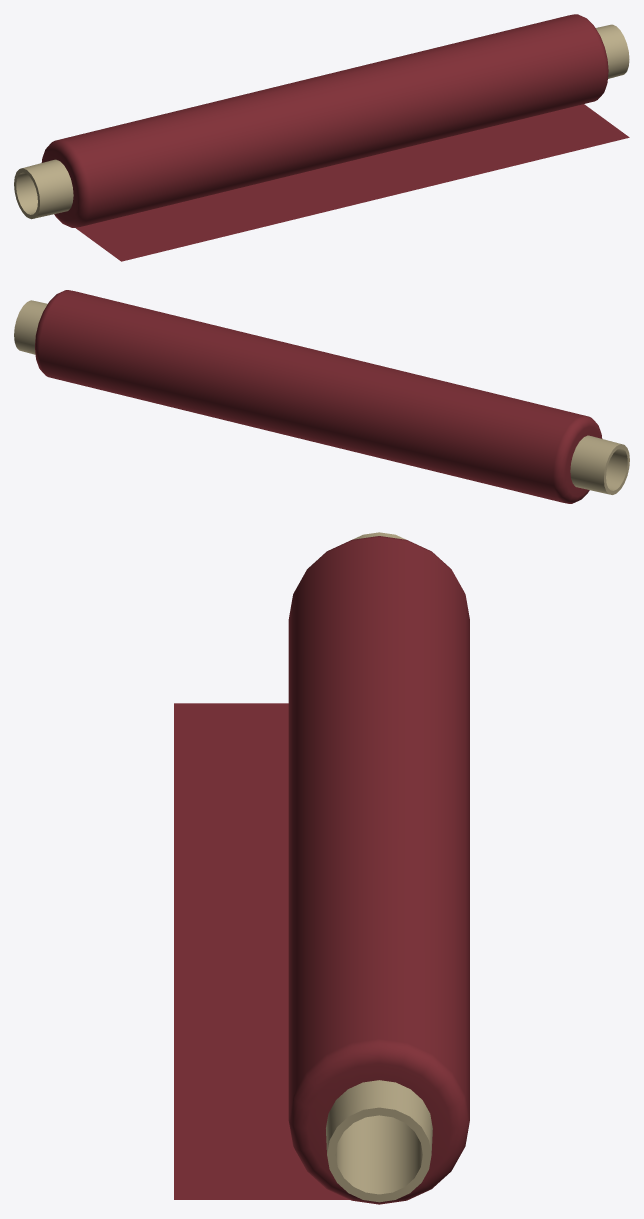
Rendered from TissuGeo.fbx.
3 renders of one model, top to bottom at view 1: azimuth 30°, elevation 25°; view 2: azimuth 150°, elevation 25°; view 3: azimuth 270°, elevation 25°, orthographic. The views are drawn at different scales.
Parts seen in each view (by area): view 1: tissugeo; view 2: tissugeo; view 3: tissugeo.
Part boxes in pixels (x1,y1,x2,y2): tissugeo: (14, 14, 629, 261); tissugeo: (14, 290, 629, 503); tissugeo: (174, 532, 469, 1204).
Size of the model in its own units: 197 by 26.26 by 42.87.
